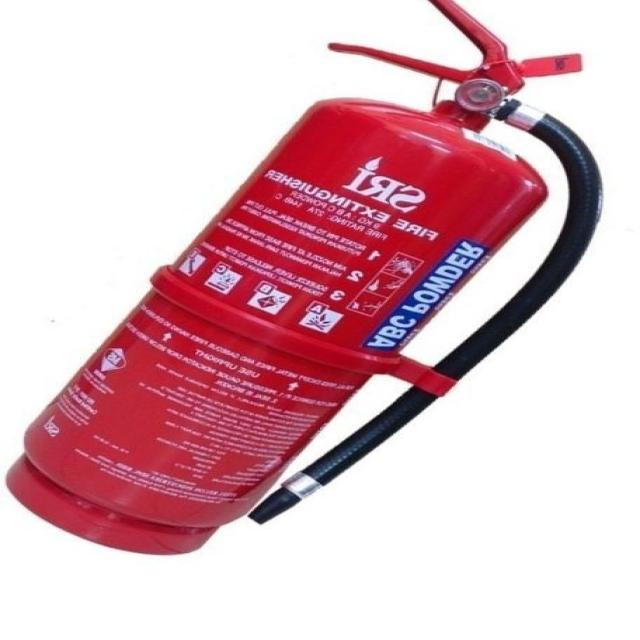fire_extinguisher: (0, 0, 609, 561)
